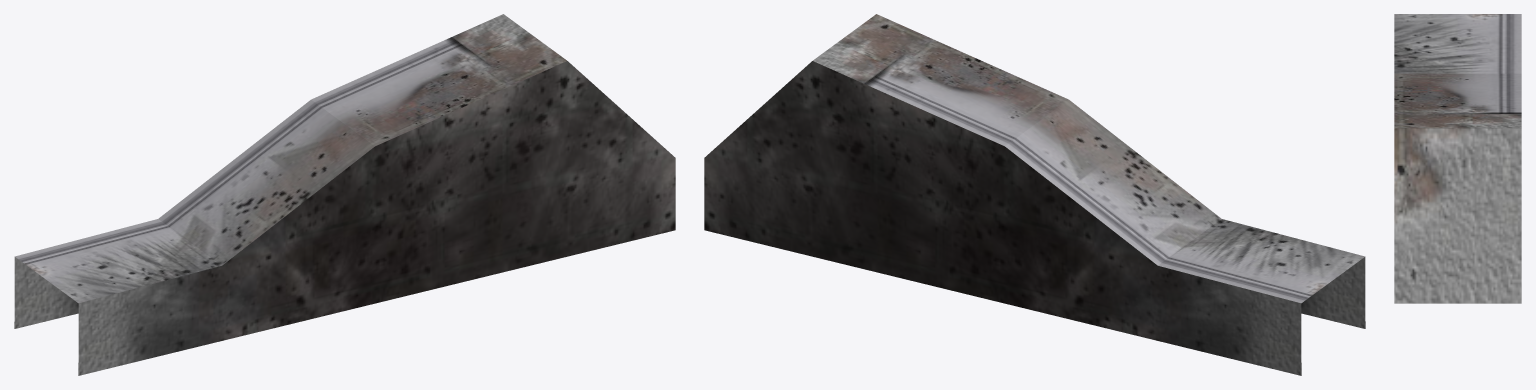
File: bruch_kl3_2.obj
3 renders of one model, left to right at view 1: azimuth 30°, elevation 25°; view 2: azimuth 150°, elevation 25°; view 3: azimuth 270°, elevation 25°, orthographic.
Visible parts, largest first — view 1: polySurface138 polySurface175 polySurface177 polySurface179 poly; view 2: polySurface138 polySurface175 polySurface177 polySurface179 poly; view 3: polySurface138 polySurface175 polySurface177 polySurface179 poly.
Part boxes in pixels (x1=…): polySurface138 polySurface175 polySurface177 polySurface179 poly: x1=14, y1=14, x2=675, y2=375; polySurface138 polySurface175 polySurface177 polySurface179 poly: x1=704, y1=14, x2=1365, y2=375; polySurface138 polySurface175 polySurface177 polySurface179 poly: x1=1394, y1=14, x2=1521, y2=303.
Size of the model in its own units: 0.9935 by 0.3114 by 0.1845.
1 material, 1 textured.
